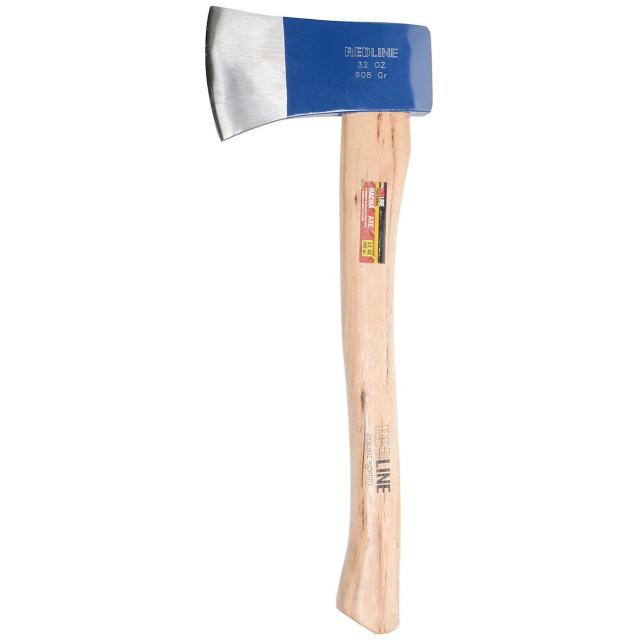Kapak: (134, 7, 484, 624)
